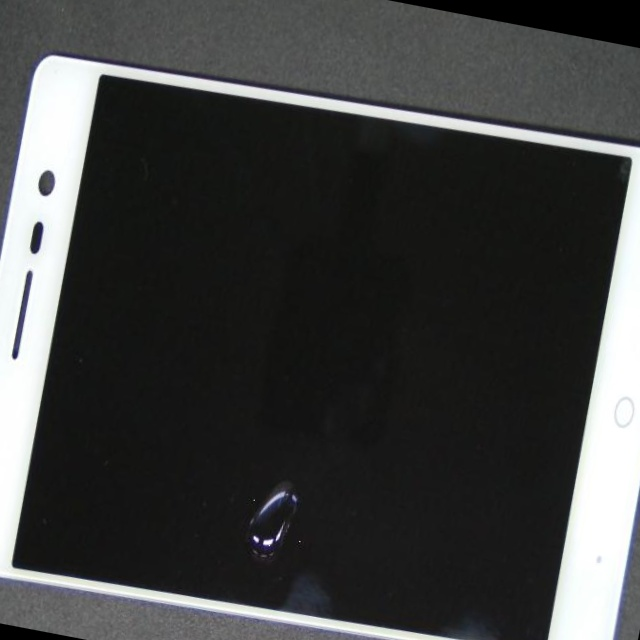oil: (48, 198, 478, 640)
